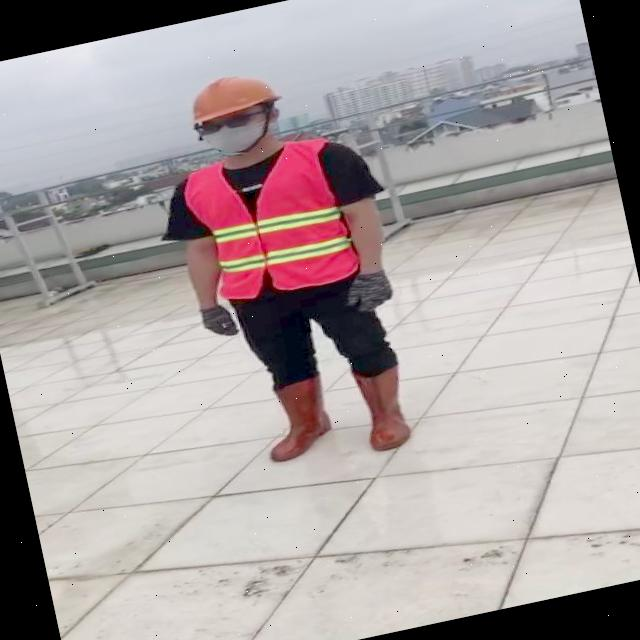boots: (255, 374, 342, 464), (346, 362, 421, 454)
